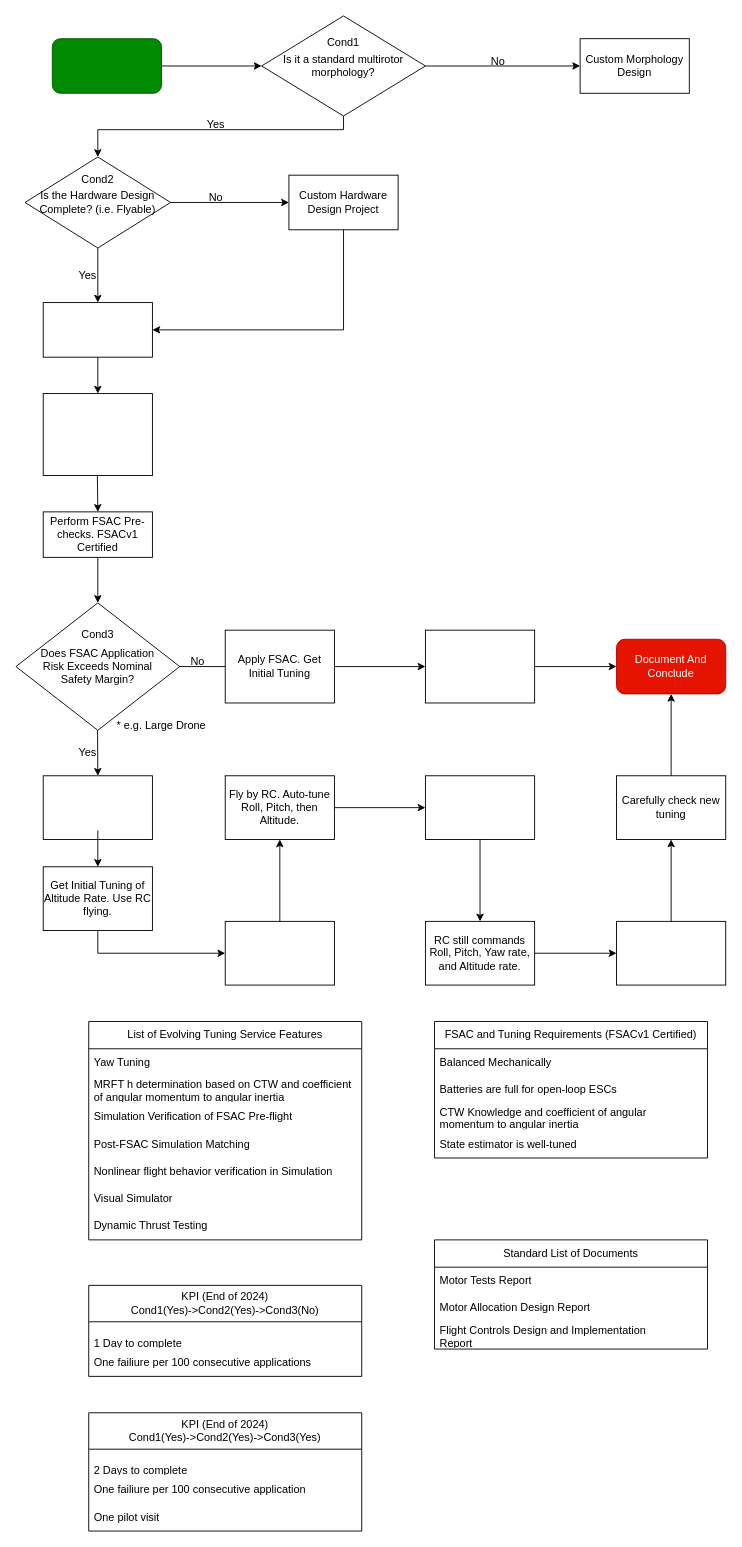
The diagram is 742 pixels wide and 1547 high, and some of its shapes have lost their labels. The centre of each missing label's shape, as x and y in pixels:
"Client Requirements Received" goes at [106,65].
"Create Drone Type and Instance Profiles" goes at [97,329].
"Fine Tune with Independent Control Loops" goes at [480,666].
"Fine-tune yaw." goes at [480,807].
"Fly by RC. Auto-tune Lateral Loops." goes at [671,952].
"Get Initial Tuning of Roll, Pitch, and Yaw Rate by RC flying assistance." goes at [97,807].
"Perform Motor Thrust Test, Linearize Thrust Response, and Update Type Parameters" goes at [97,434].
"RC now commands Roll, Pitch, Yaw rate, and Altitude rate." goes at [279,952].
